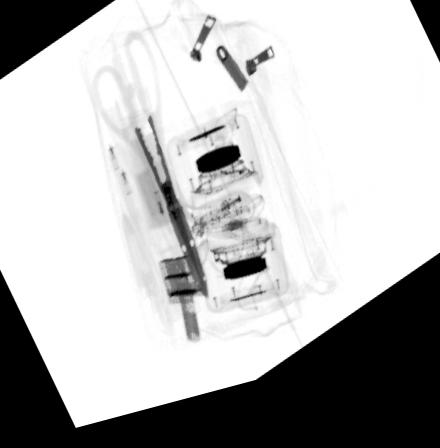Scissors: (88, 37, 209, 306)
